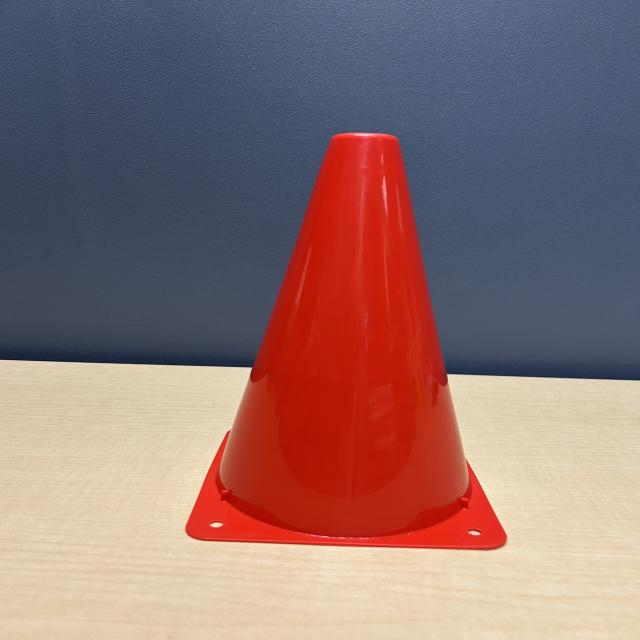orange cone: (182, 128, 515, 556)
